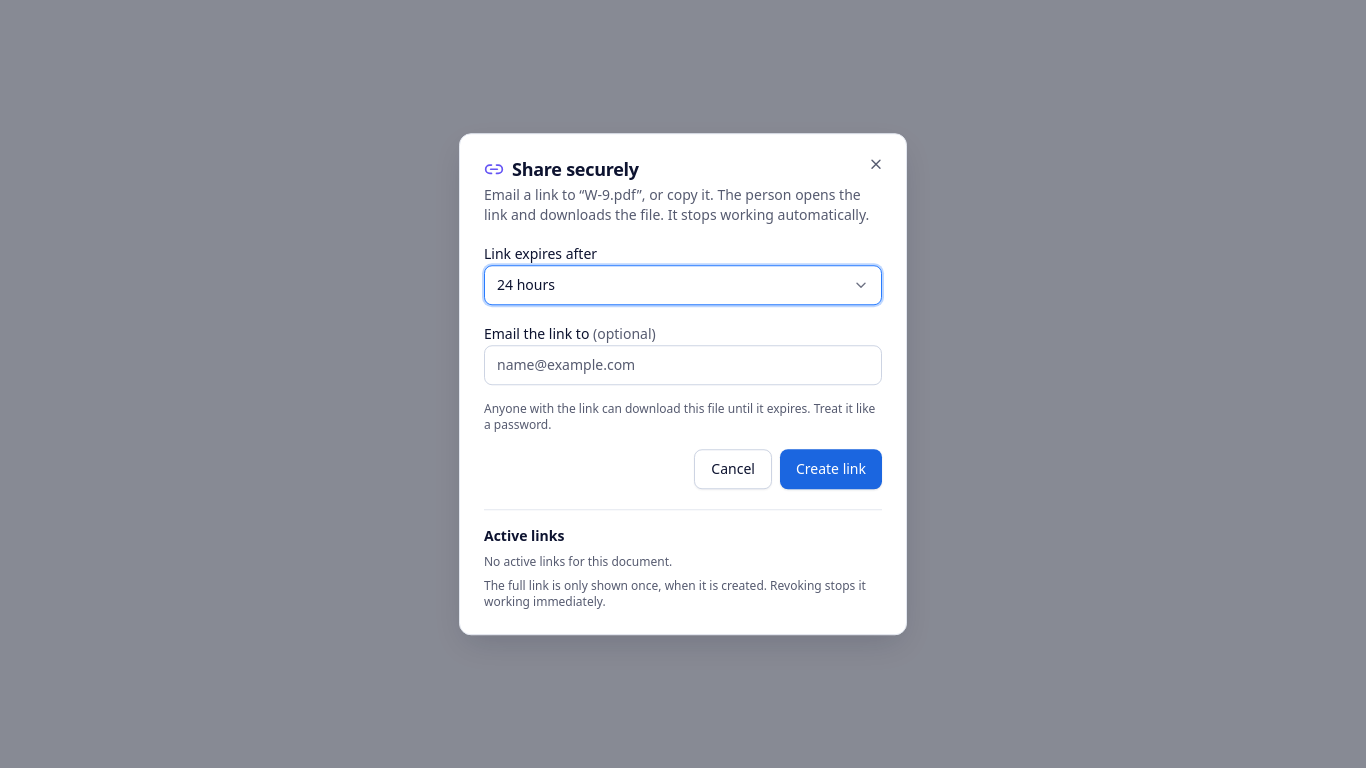
Test: ShareDialog: email the link › refuses a bad address before anything is created
Type "not-an-email" into the field labelled "Email the link to (optional)" at [683, 365], box x1=484 y1=345 x2=882 y2=385
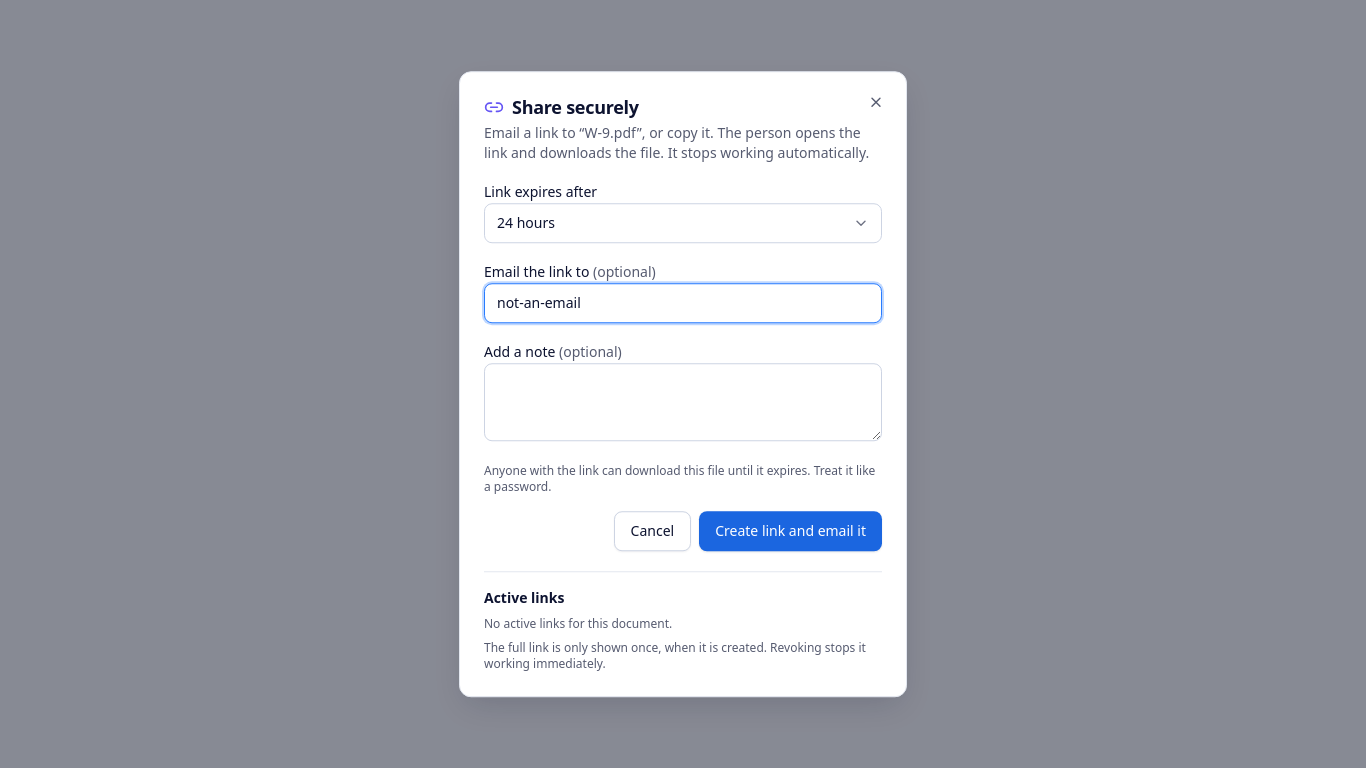
Click the button "Create link and email it" at [791, 531], box x1=699 y1=511 x2=882 y2=551
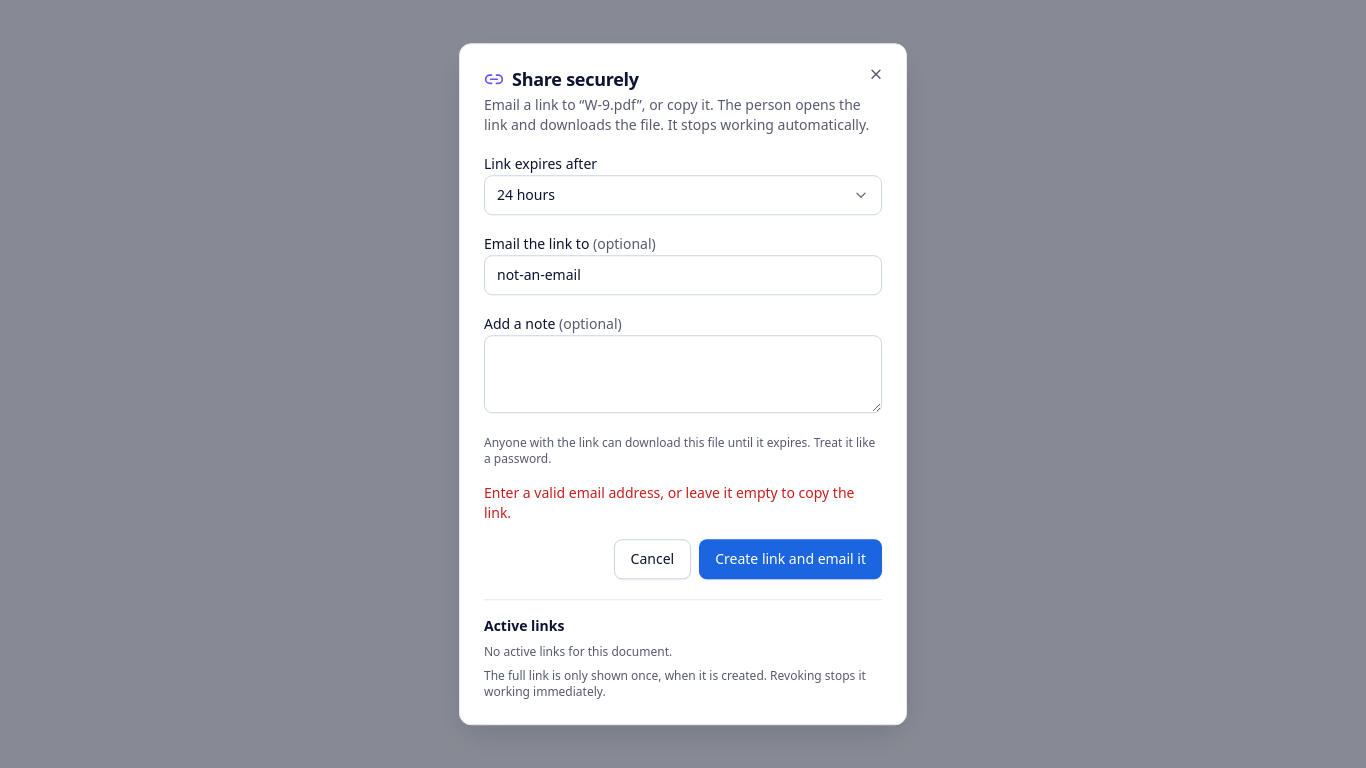
Result: the message shows "Enter a valid email address" at x1=484 y1=483 x2=854 y2=522
